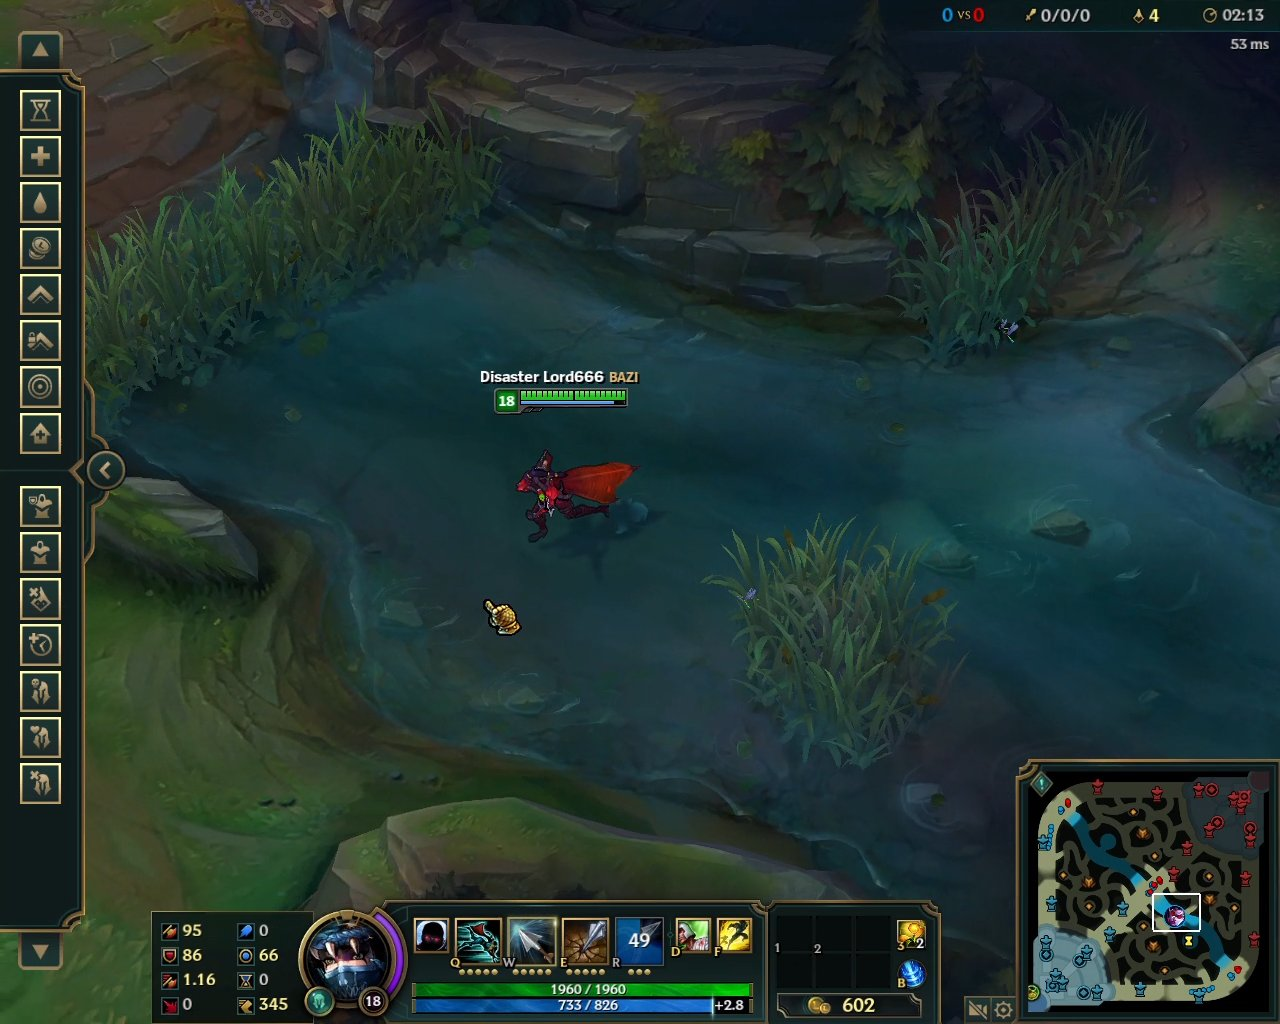Vayne: (508, 447, 641, 548)
